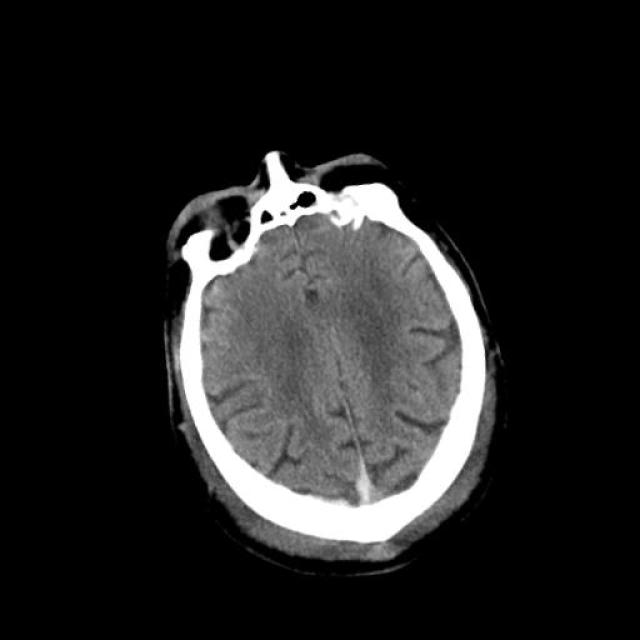Subdural: (324, 418, 417, 527)
